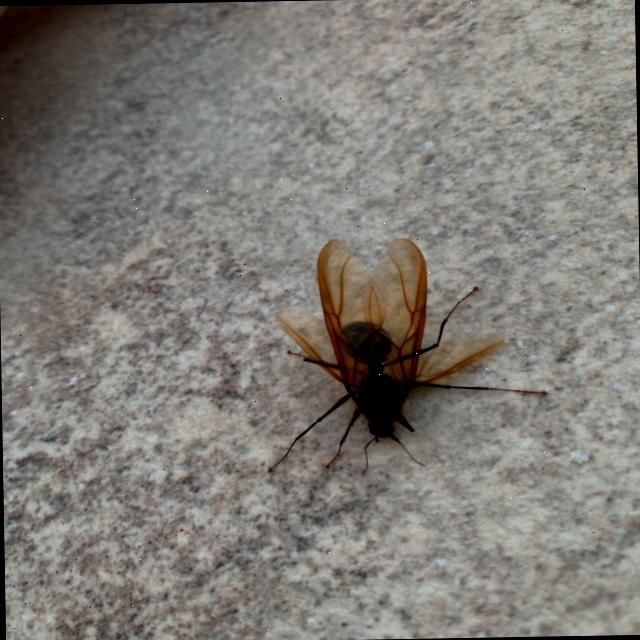Dead-Male-Alate: (264, 235, 550, 479)
